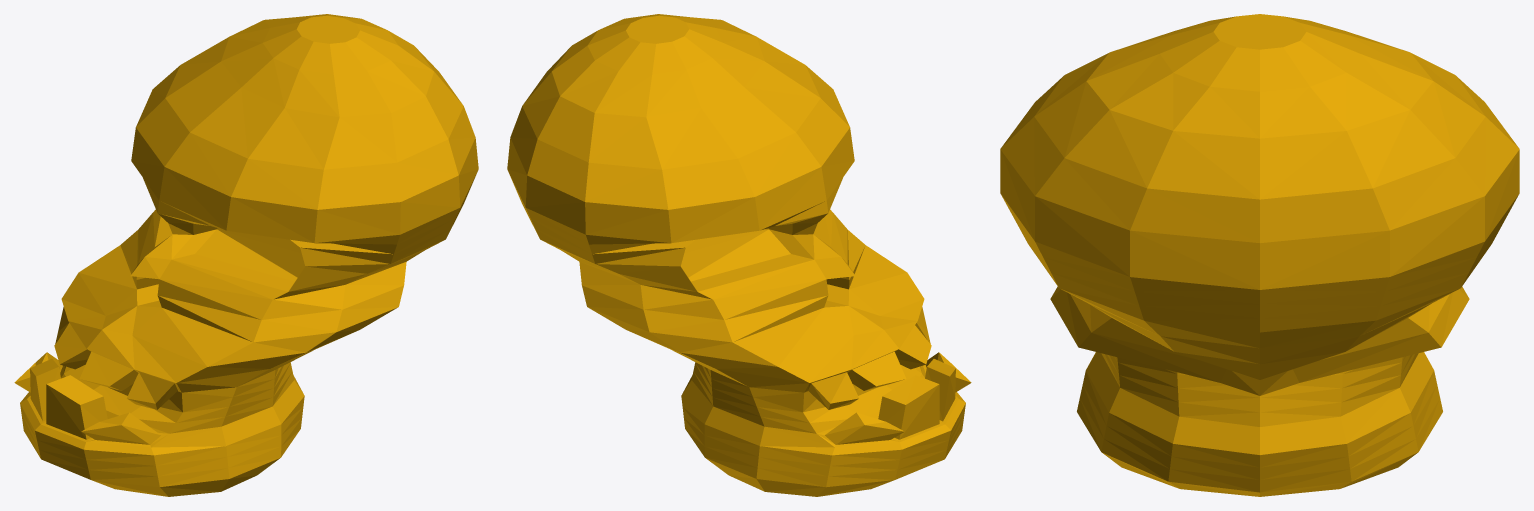
The model's file is skell_head.FBX.
3 views of the same model, side by side, from view 1: azimuth 30°, elevation 25°; view 2: azimuth 150°, elevation 25°; view 3: azimuth 270°, elevation 25° (orthographic). The views are drawn at different scales.
Visible parts, largest first — view 1: head014; view 2: head014; view 3: head014.
Boxes of the visible parts, box(x1,y1,x2,y2) form: head014: box(14, 14, 478, 496); head014: box(507, 14, 971, 496); head014: box(1000, 14, 1519, 496).
Size of the model in its own units: 15 by 13.05 by 11.89.
